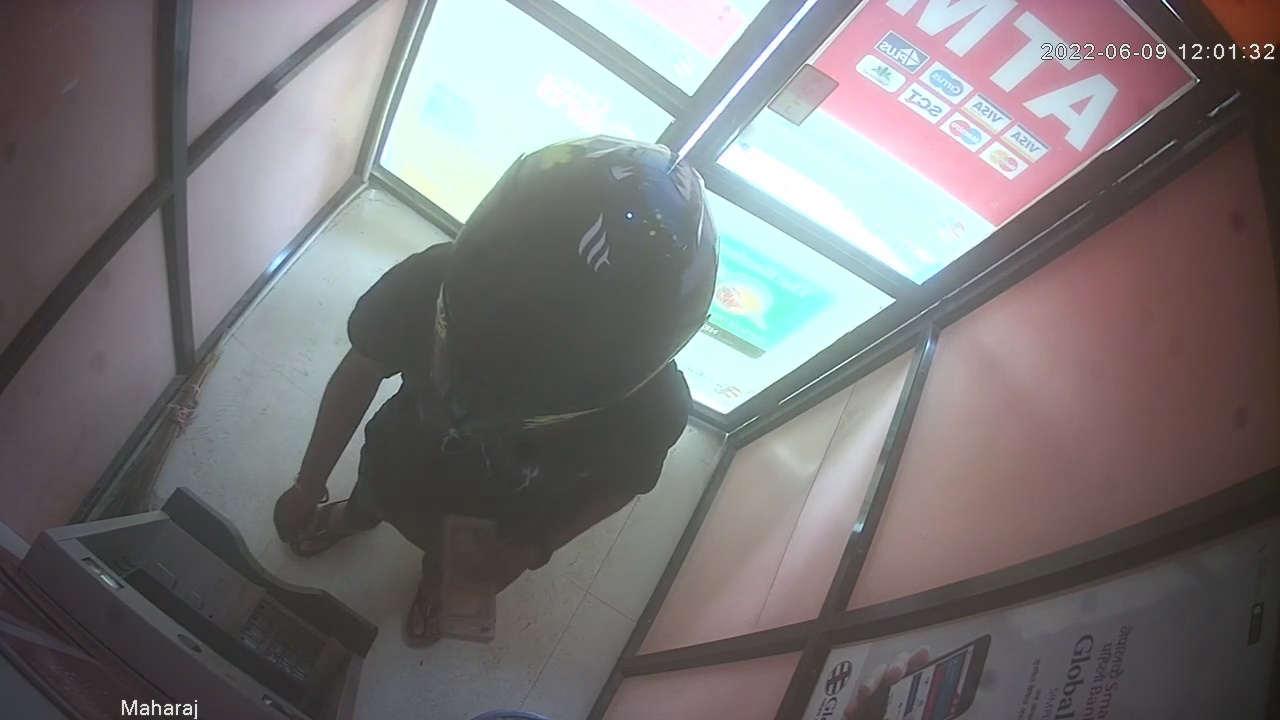helmet: (427, 136, 716, 437)
person: (274, 134, 719, 650)
